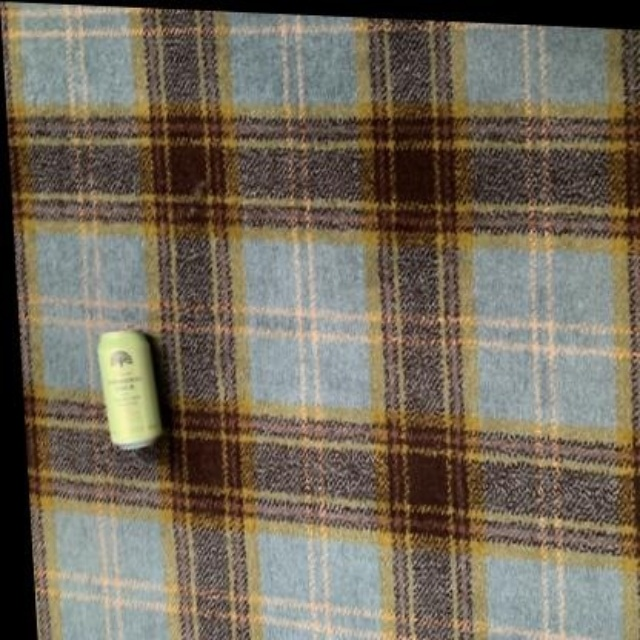trash: (98, 331, 160, 448)
